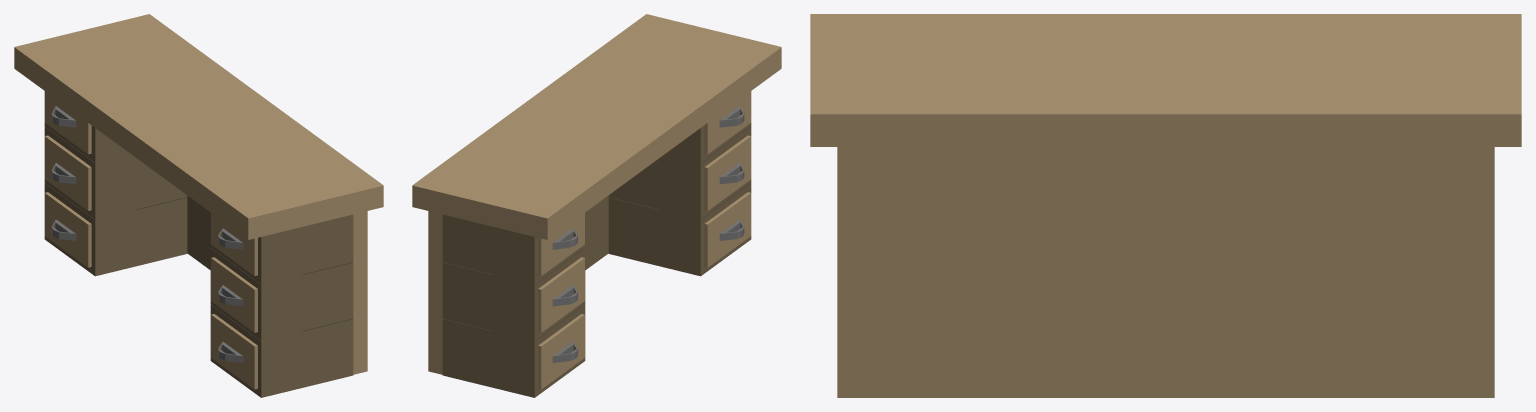
File: Desk.fbx
3 views of the same model, side by side, from view 1: azimuth 30°, elevation 25°; view 2: azimuth 150°, elevation 25°; view 3: azimuth 270°, elevation 25° (orthographic). The views are drawn at different scales.
Parts seen in each view (by area): view 1: Cube; view 2: Cube; view 3: Cube.
Boxes of the visible parts, left/top/right/bottom form: Cube: left=14, top=14, right=383, bottom=397; Cube: left=412, top=14, right=781, bottom=397; Cube: left=810, top=14, right=1521, bottom=397.
Size of the model in its own units: 2 by 2.7 by 6.
